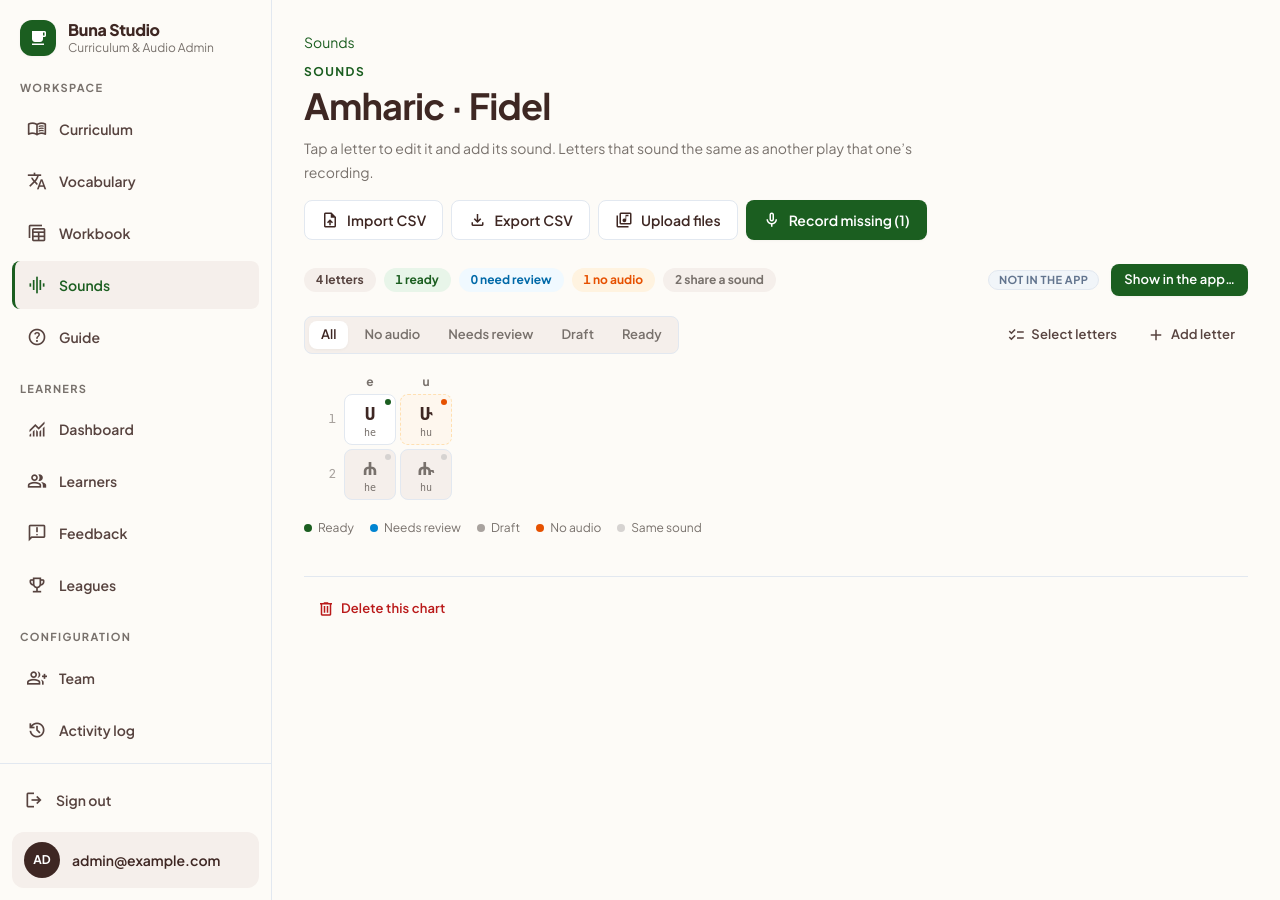
Test case: a chart › will not show the chart in the app until every sound has audio
What coordinates should you click on to do the following:
click the button "Show in the app…"
I would click on:
 (1180, 280)
Its box is [1111,264,1248,296].
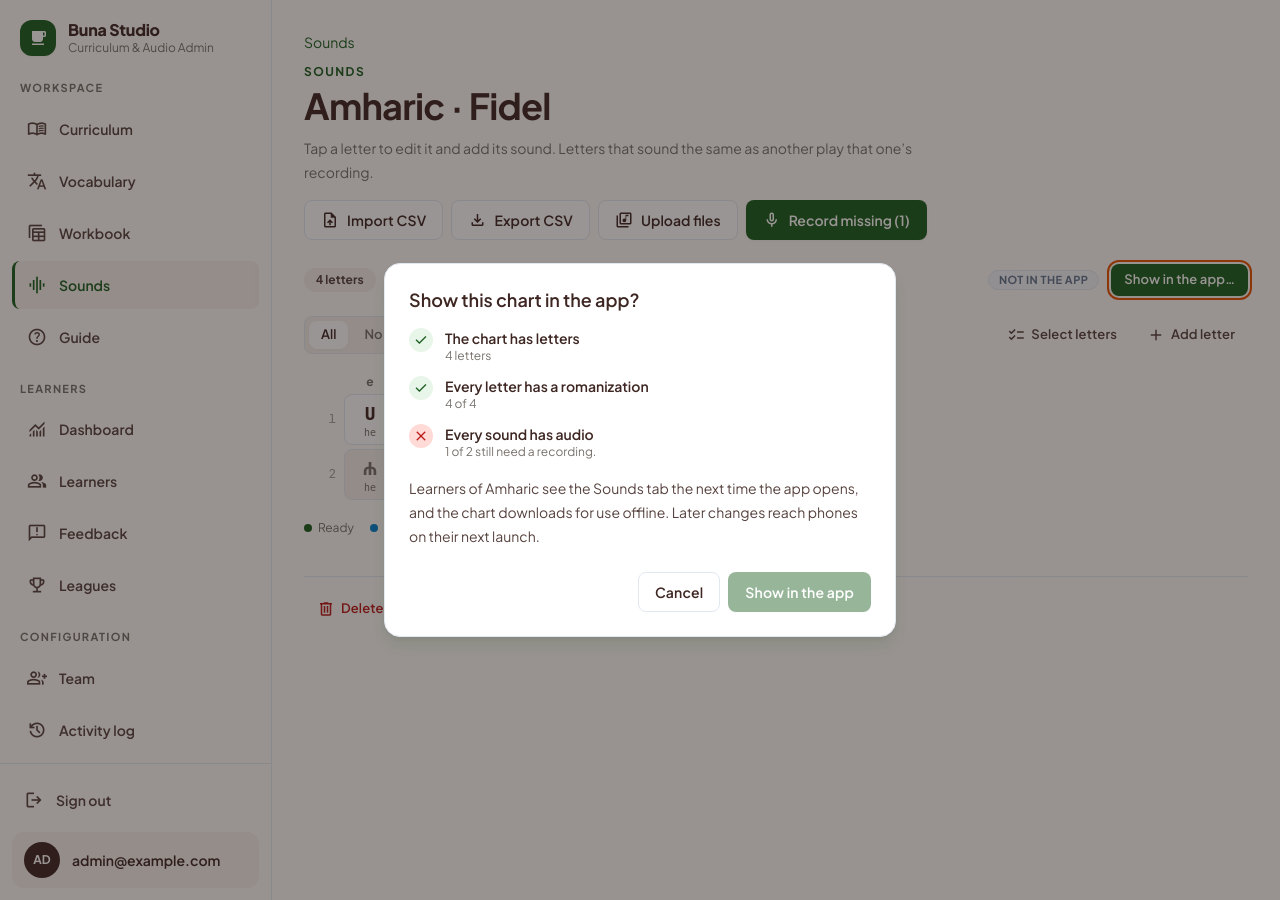
Expected: the text "1 of 2 still need a recording." is shown, [445,444,596,460]
Expected: the button "Show in the app" is disabled, [728,572,871,612]
